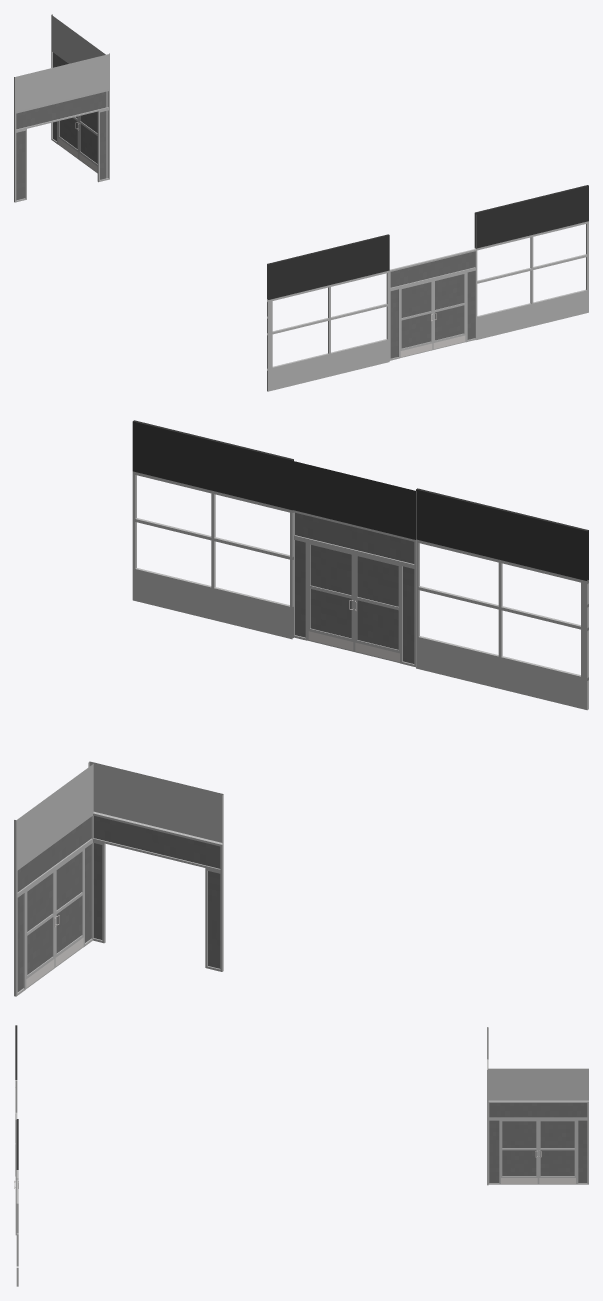
Rendered from SW_corridor__R_lobby_R_Aula_Kautava1_Ikkuna_004.FBX.
The picture shows the model from 3 angles, top to bottom: view 1: azimuth 30°, elevation 25°; view 2: azimuth 150°, elevation 25°; view 3: azimuth 270°, elevation 25°; orthographic projection. The views are drawn at different scales.
Visible parts, largest first — view 1: SW_corridor__R_lobby_R_Aula_Kautava1_Ikkuna_004; view 2: SW_corridor__R_lobby_R_Aula_Kautava1_Ikkuna_004; view 3: SW_corridor__R_lobby_R_Aula_Kautava1_Ikkuna_004.
Boxes of the visible parts, <box> form: SW_corridor__R_lobby_R_Aula_Kautava1_Ikkuna_004: <box>14,14,588,391</box>; SW_corridor__R_lobby_R_Aula_Kautava1_Ikkuna_004: <box>14,420,588,996</box>; SW_corridor__R_lobby_R_Aula_Kautava1_Ikkuna_004: <box>14,1025,588,1286</box>.
Bounding box in the file's own units: 971 × 1632 × 366.
